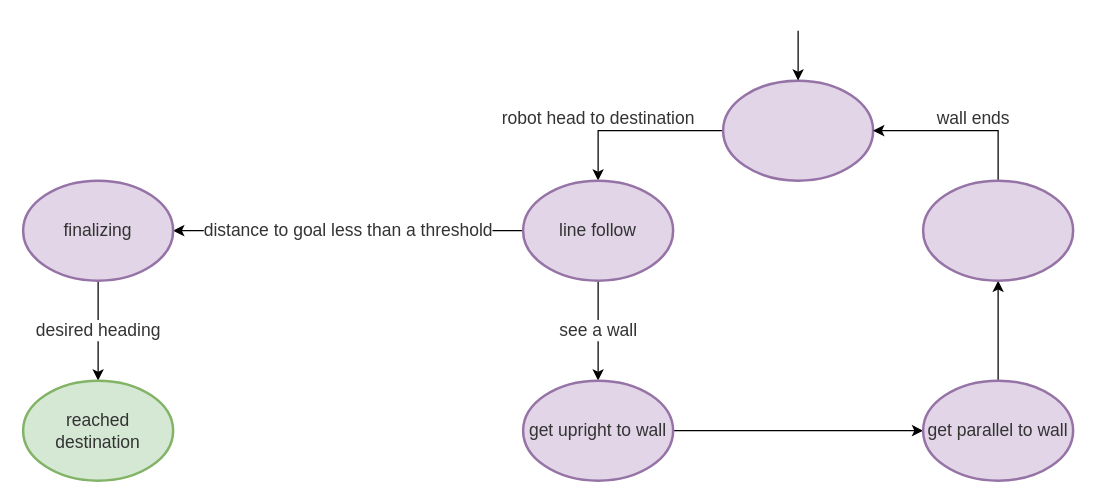
Some shapes in this 1095 by 504 pixel diagram are drawn without their labels. The shapes that lost their labels are listed below. From the top down, each one's centre as x and y in pixels, then its label:
[797,130]: initialize
[997,230]: wall follow
